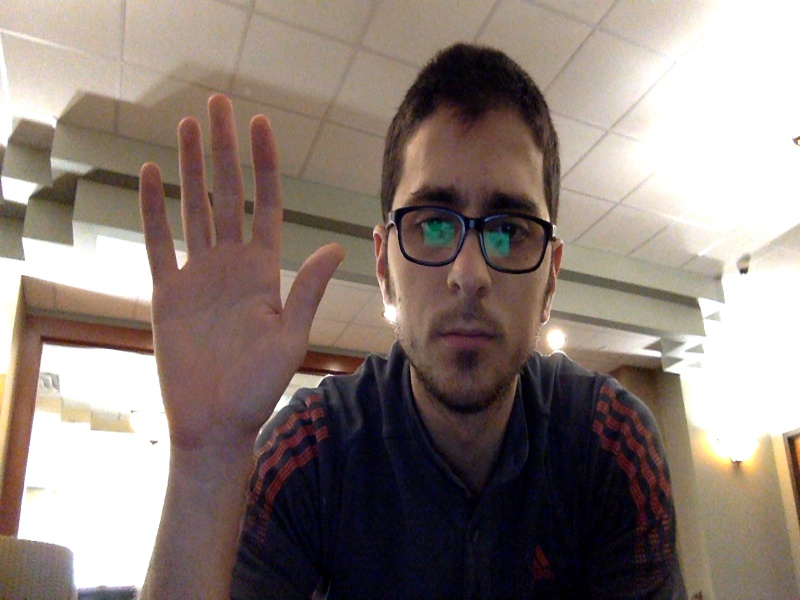5-hand: (139, 94, 342, 455)
